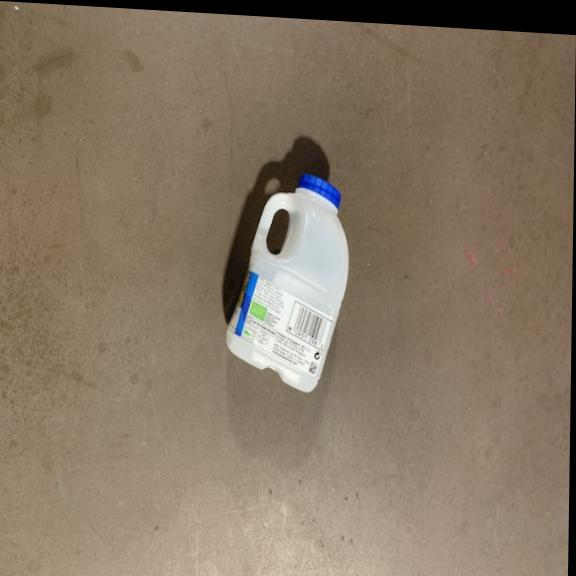Plastik: (225, 160, 358, 401)
